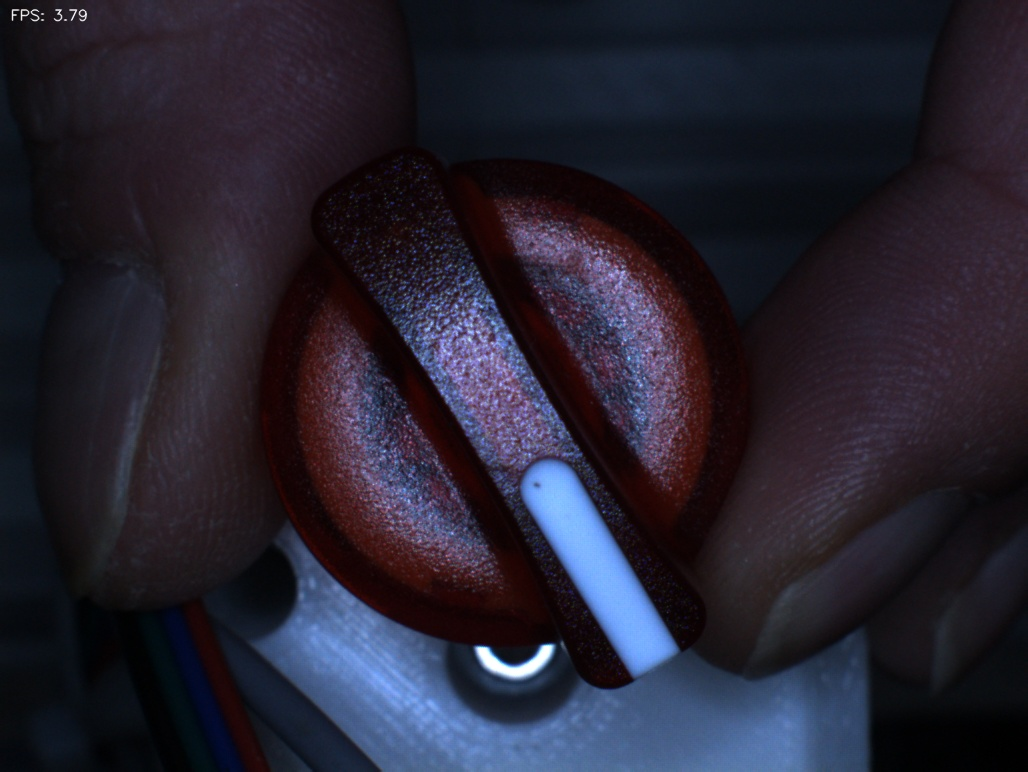PointNoir: (500, 453, 568, 514)
